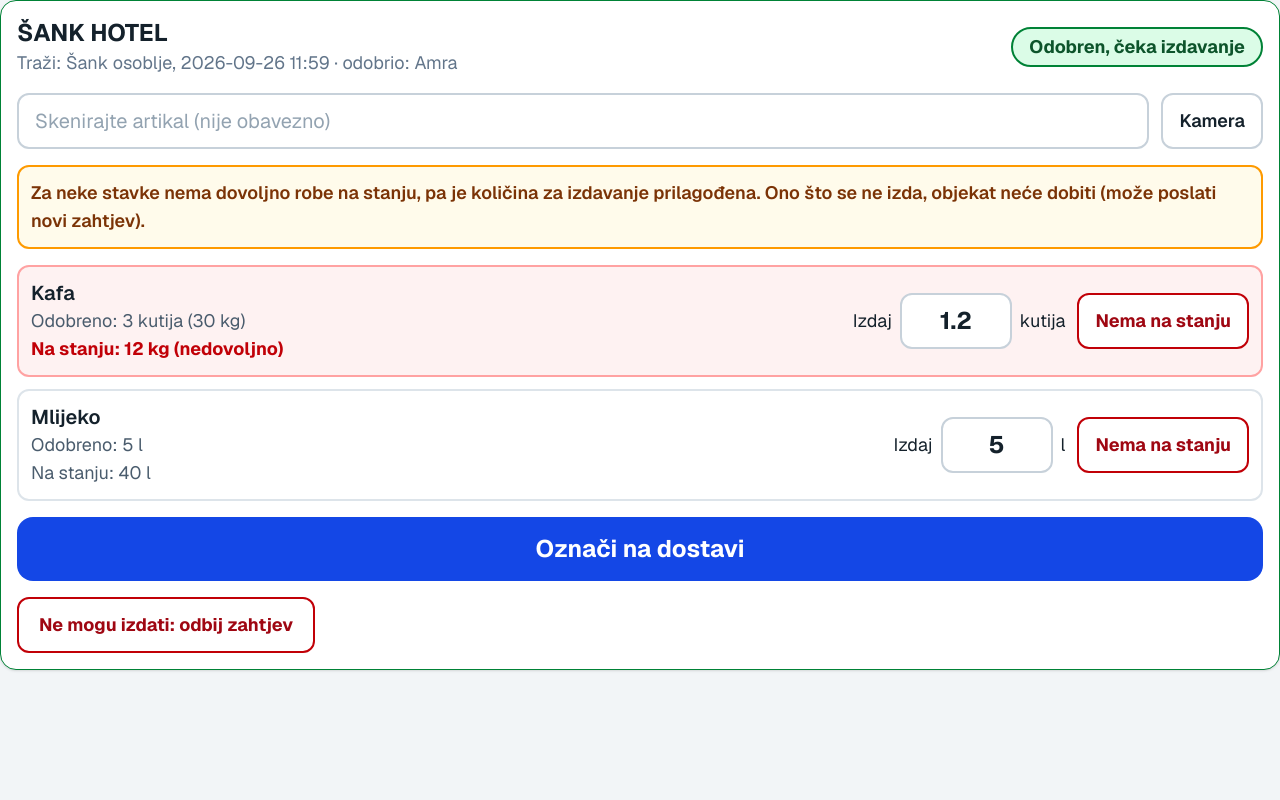
Test: magacioner: izdavanje odobrenog zahtjeva › bar kod koji nije na zahtjevu javlja da ne odgovara nijednoj stavci
The image size is (1280, 800).
Click the field labelled "Skenirajte artikal" at (583, 121), box [17,93,1149,149]
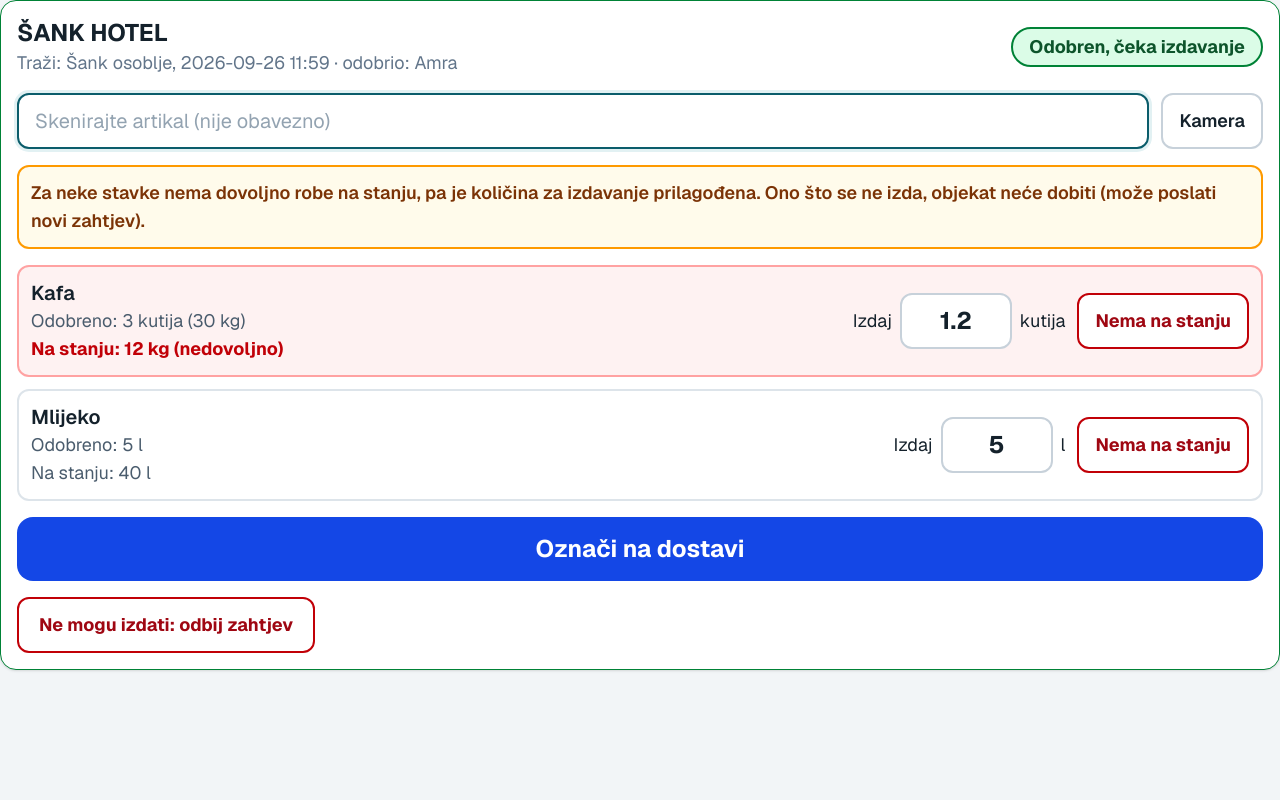
Type keys "9999999999{Enter}"
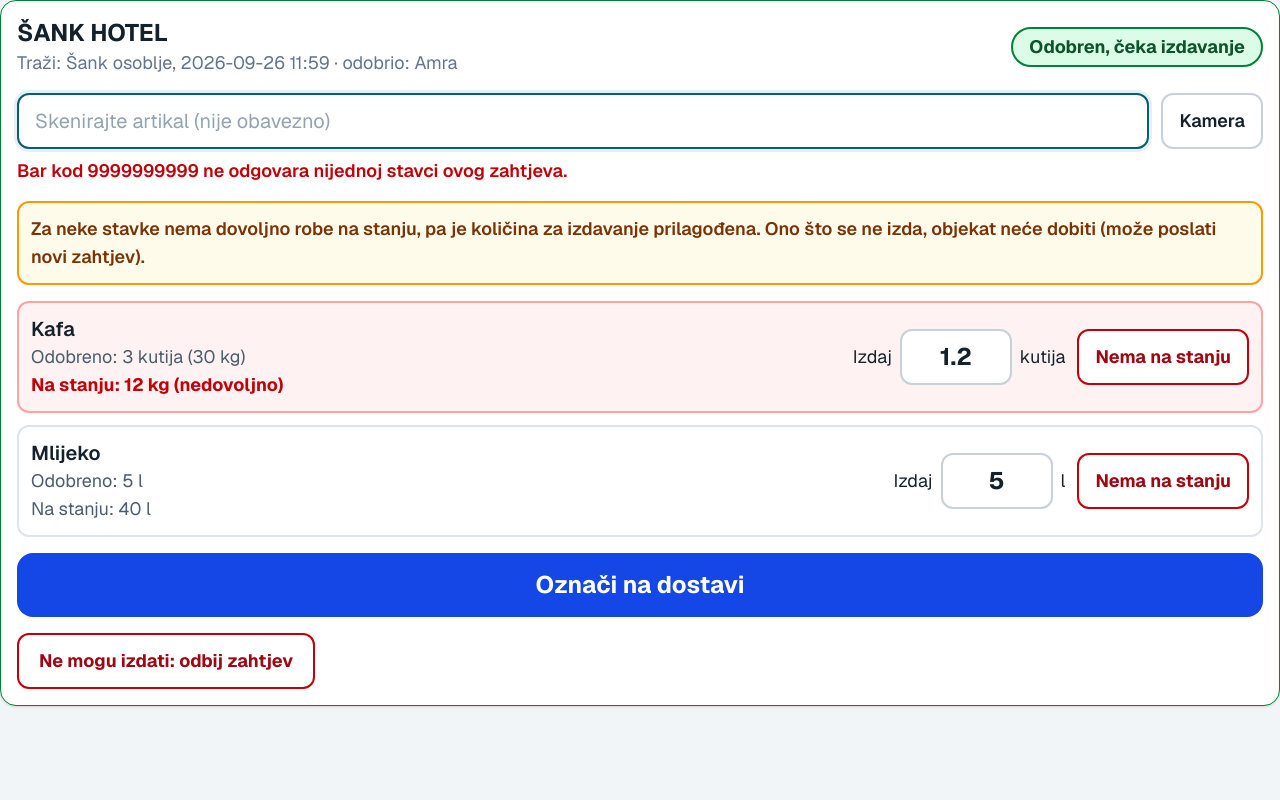
Result: the message "Bar kod 9999999999 ne odgovara nijednoj stavci ovog zahtjeva." is shown at [17,159,567,182]
